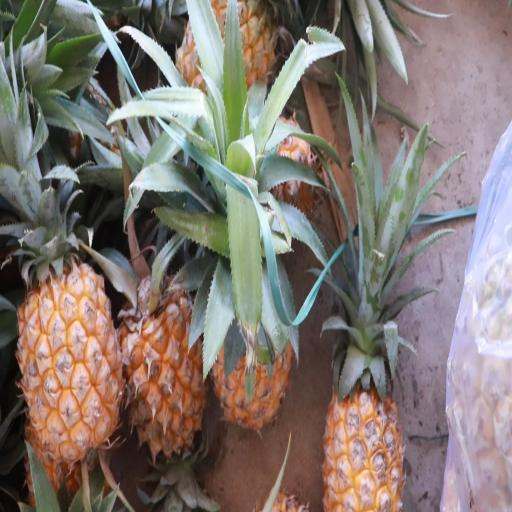Pineapple - v8 v1: (16, 253, 131, 472), (118, 261, 213, 461), (207, 230, 294, 433), (320, 339, 408, 512), (169, 0, 279, 121)
